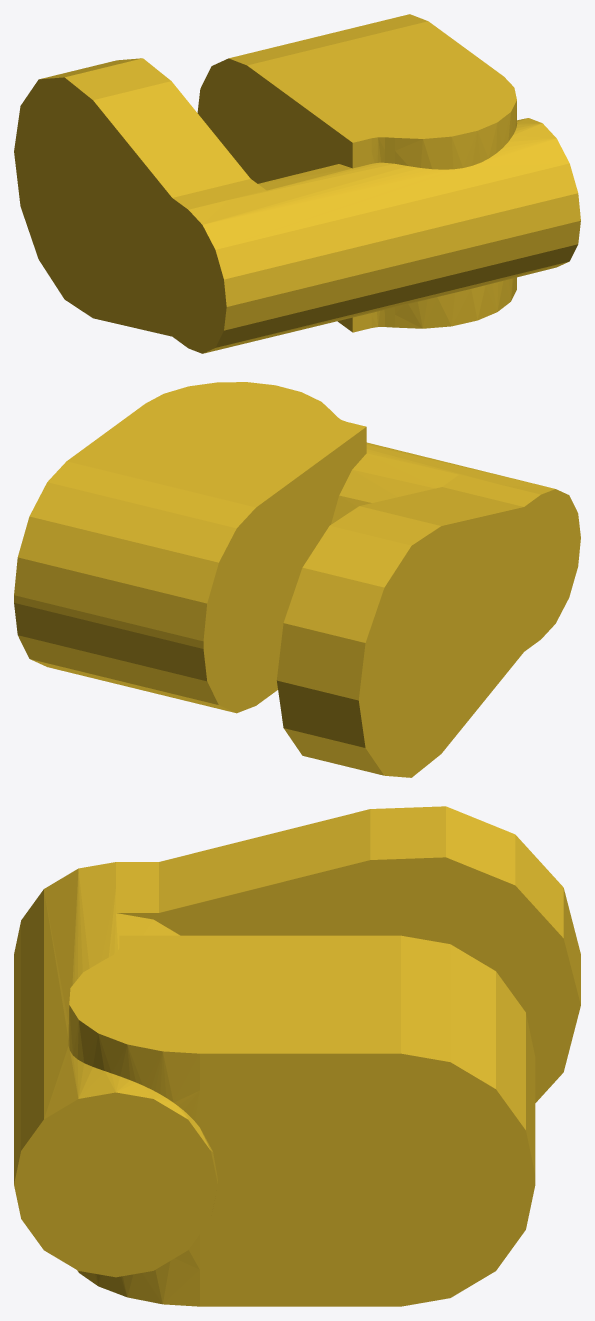
The model's file is RLEG_LINK4_mesh.dae.
The picture shows the model from 3 angles, top to bottom: view 1: azimuth 30°, elevation 25°; view 2: azimuth 150°, elevation 25°; view 3: azimuth 270°, elevation 25°; orthographic projection. The views are drawn at different scales.
Parts seen in each view (by area): view 1: RLEG_LINK4; view 2: RLEG_LINK4; view 3: RLEG_LINK4.
Boxes of the visible parts, <box> form: RLEG_LINK4: <box>14,14,580,353</box>; RLEG_LINK4: <box>14,382,580,777</box>; RLEG_LINK4: <box>14,806,580,1306</box>.
Bounding box in the file's own units: 0.1016 × 0.0609 × 0.1056.
